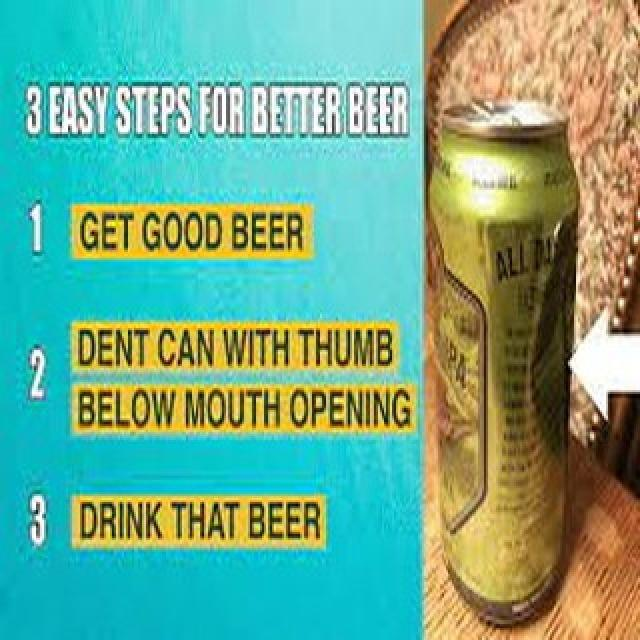can: (434, 100, 582, 629)
